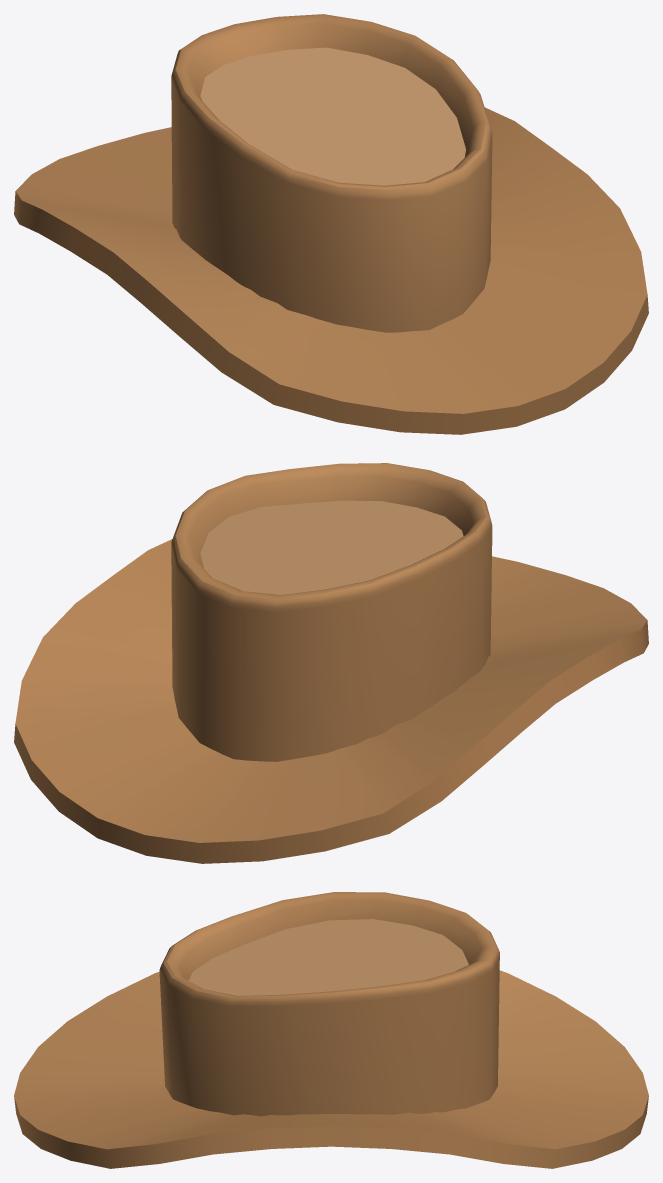
Rendered from cowboyhat.fbx.
3 views of the same model, one above another, from view 1: azimuth 30°, elevation 25°; view 2: azimuth 150°, elevation 25°; view 3: azimuth 270°, elevation 25° (orthographic). The views are drawn at different scales.
Parts seen in each view (by area): view 1: cowboyhat; view 2: cowboyhat; view 3: cowboyhat.
Part boxes in pixels (x1,y1,x2,y2): cowboyhat: [14, 14, 648, 434]; cowboyhat: [14, 463, 648, 863]; cowboyhat: [14, 892, 648, 1168].
Bounding box in the file's own units: 164 × 70.94 × 234.
